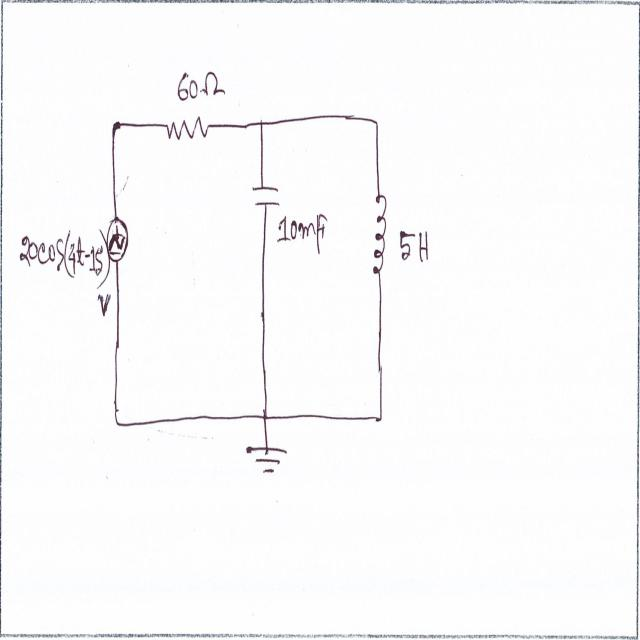ac_current: (107, 212, 131, 270)
capacitor: (250, 174, 284, 211)
ground: (242, 435, 290, 481)
inductor: (372, 188, 389, 284)
resistor: (164, 113, 213, 152)
